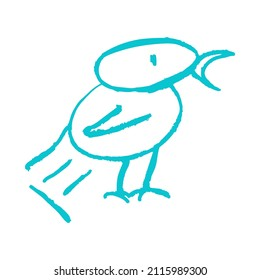bird: (61, 30, 236, 204)
